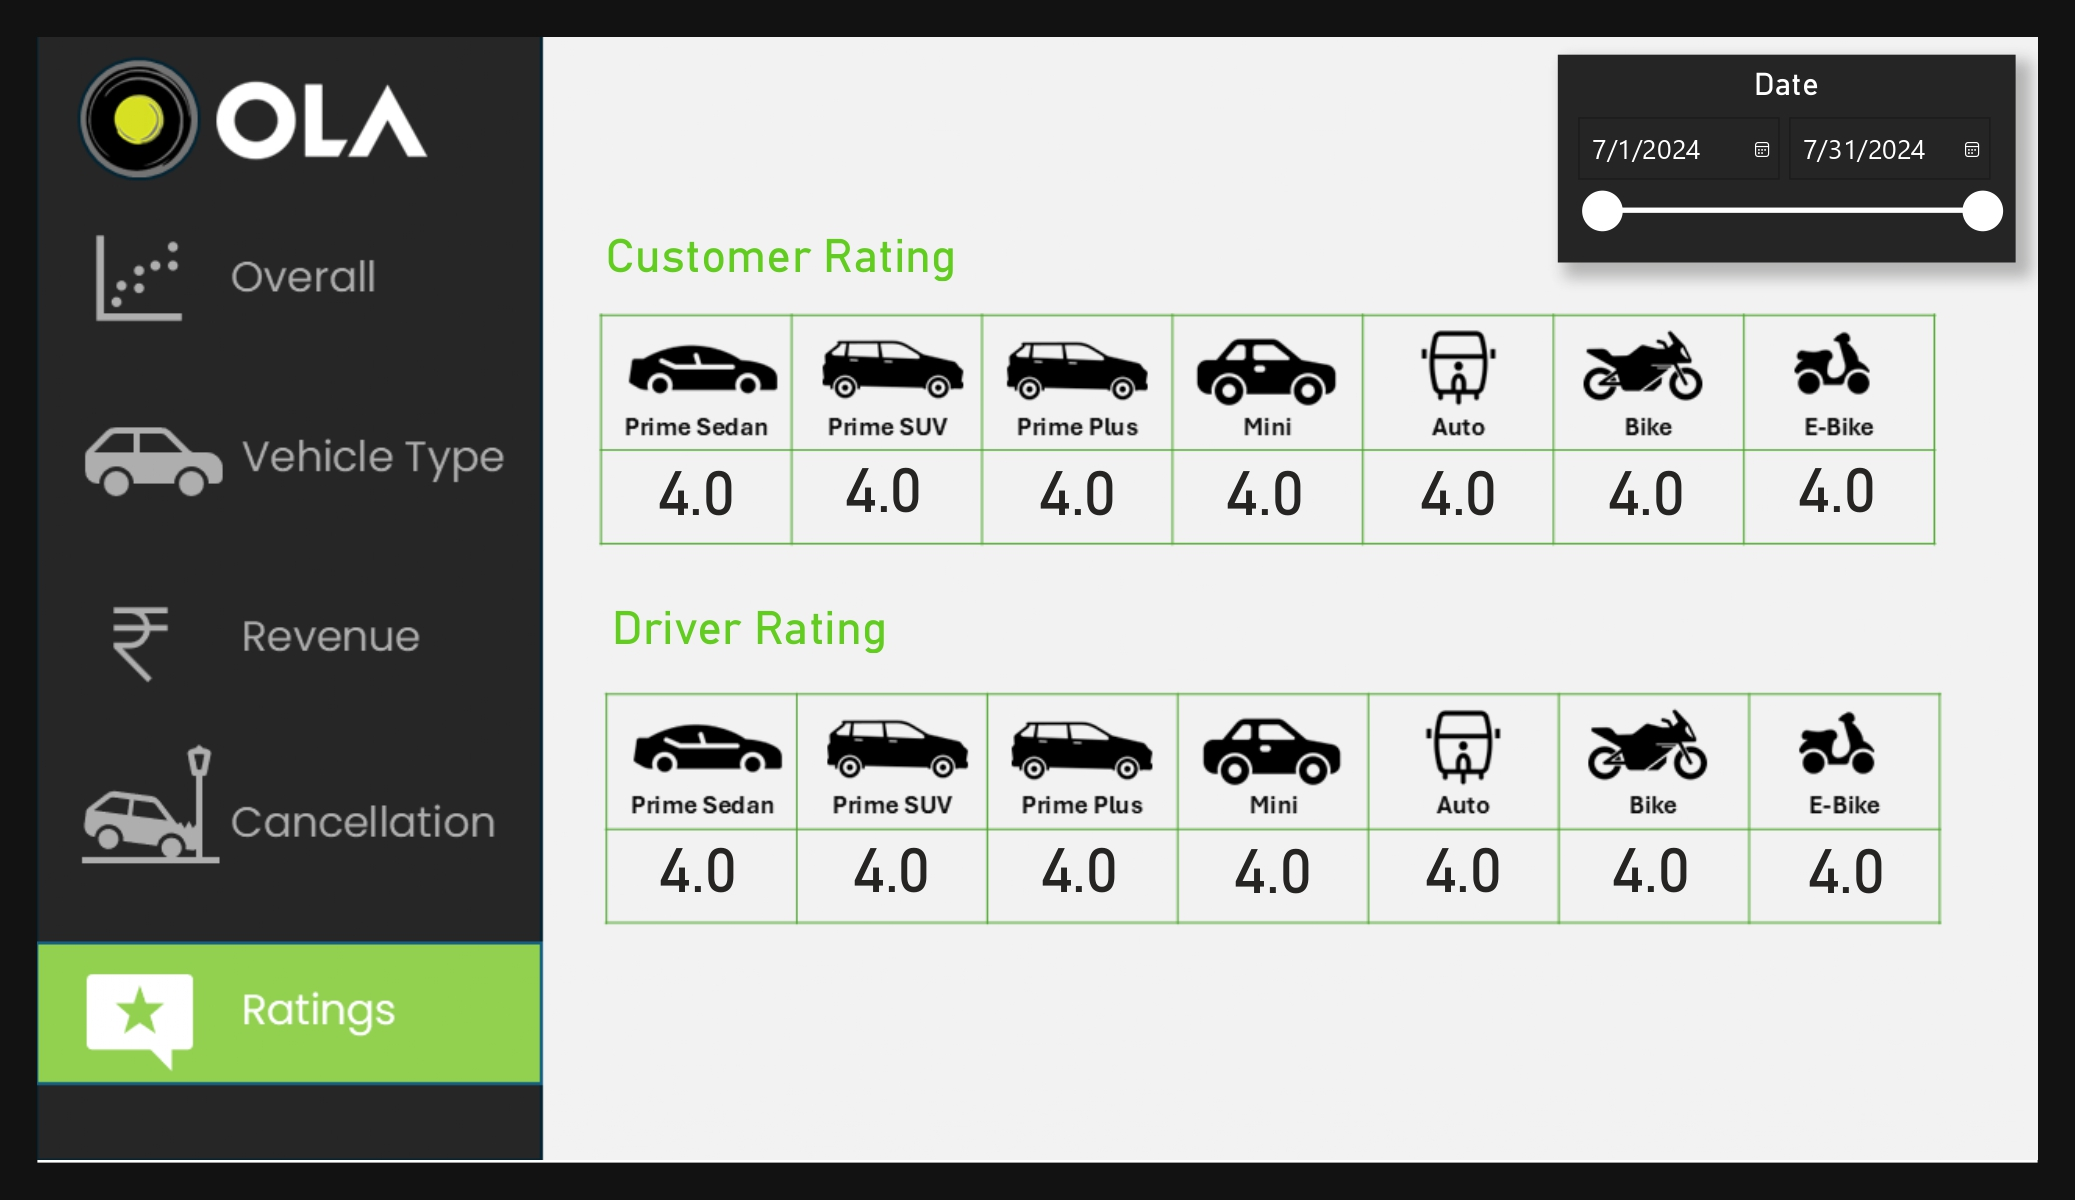

The page's visual inventory and layout, read from the dashboard file:
{"tool":"powerbi","page":{"name":"Ratings","canvas":[1280,720],"ordinal":5},"visuals":[{"type":"actionButton","box":[0,109.2,322.7,90.8],"z":0},{"type":"actionButton","box":[0,222.1,322.7,90.8],"z":1000},{"type":"actionButton","box":[0,337.4,322.7,90.8],"z":2000},{"type":"actionButton","box":[2.9,446.4,322.9,90.4],"z":3000},{"type":"card","fields":{"Values":["Avg(July.Customer_Rating)"]},"box":[361.7,265.5,119.1,56],"z":4000},{"type":"card","fields":{"Values":["Avg(July.Customer_Rating)"]},"box":[482.3,264.1,119.1,56],"z":5000},{"type":"card","fields":{"Values":["Avg(July.Customer_Rating)"]},"box":[605.7,265.5,119.1,56],"z":6000},{"type":"card","fields":{"Values":["Avg(July.Customer_Rating)"]},"box":[726.3,265.5,119.1,56],"z":7000},{"type":"card","fields":{"Values":["Avg(July.Customer_Rating)"]},"box":[849.7,265.5,119.1,56],"z":8000},{"type":"card","fields":{"Values":["Avg(July.Customer_Rating)"]},"box":[970.3,265.5,119.1,56],"z":9000},{"type":"card","fields":{"Values":["Avg(July.Customer_Rating)"]},"box":[1092.3,264.1,119.1,56],"z":10000},{"type":"card","fields":{"Values":["Avg(July.Driver_Ratings)"]},"box":[363.1,506.7,119.1,56],"z":11000},{"type":"card","fields":{"Values":["Avg(July.Driver_Ratings)"]},"box":[486.6,506.7,119.1,56],"z":12000},{"type":"card","fields":{"Values":["Avg(July.Driver_Ratings)"]},"box":[607.1,506.7,119.1,56],"z":12001},{"type":"card","fields":{"Values":["Avg(July.Driver_Ratings)"]},"box":[730.6,508.1,119.1,56],"z":12002},{"type":"card","fields":{"Values":["Avg(July.Driver_Ratings)"]},"box":[852.6,506.7,119.1,56],"z":12003},{"type":"card","fields":{"Values":["Avg(July.Driver_Ratings)"]},"box":[973.1,506.7,119.1,56],"z":12004},{"type":"card","fields":{"Values":["Avg(July.Driver_Ratings)"]},"box":[1098,508.1,119.1,56],"z":12005},{"type":"textbox","title":"Driver Rating","box":[363.1,360.3,188,41.6],"z":12006},{"type":"slicer","title":"Date","fields":{"Values":["July.Date"]},"box":[973.1,11.5,292.8,132],"z":12007},{"type":"textbox","title":"Customer Rating","box":[358.8,122,242.6,41.6],"z":12008}]}

Visuals, with their boxes on the page's 1280x720 design canvas (x1, y1, x2, y2). These are canvas units, not pixel positions in the 2075x1200 screenshot, which may show the page scaled, cropped or inside an application window:
actionButton: 0:109:323:200
actionButton: 0:222:323:313
actionButton: 0:337:323:428
actionButton: 3:446:326:537
card - Avg(July.Customer_Rating): 362:266:481:322
card - Avg(July.Customer_Rating): 482:264:601:320
card - Avg(July.Customer_Rating): 606:266:725:322
card - Avg(July.Customer_Rating): 726:266:845:322
card - Avg(July.Customer_Rating): 850:266:969:322
card - Avg(July.Customer_Rating): 970:266:1089:322
card - Avg(July.Customer_Rating): 1092:264:1211:320
card - Avg(July.Driver_Ratings): 363:507:482:563
card - Avg(July.Driver_Ratings): 487:507:606:563
card - Avg(July.Driver_Ratings): 607:507:726:563
card - Avg(July.Driver_Ratings): 731:508:850:564
card - Avg(July.Driver_Ratings): 853:507:972:563
card - Avg(July.Driver_Ratings): 973:507:1092:563
card - Avg(July.Driver_Ratings): 1098:508:1217:564
"Driver Rating" textbox: 363:360:551:402
"Date" slicer: 973:12:1266:144
"Customer Rating" textbox: 359:122:601:164
